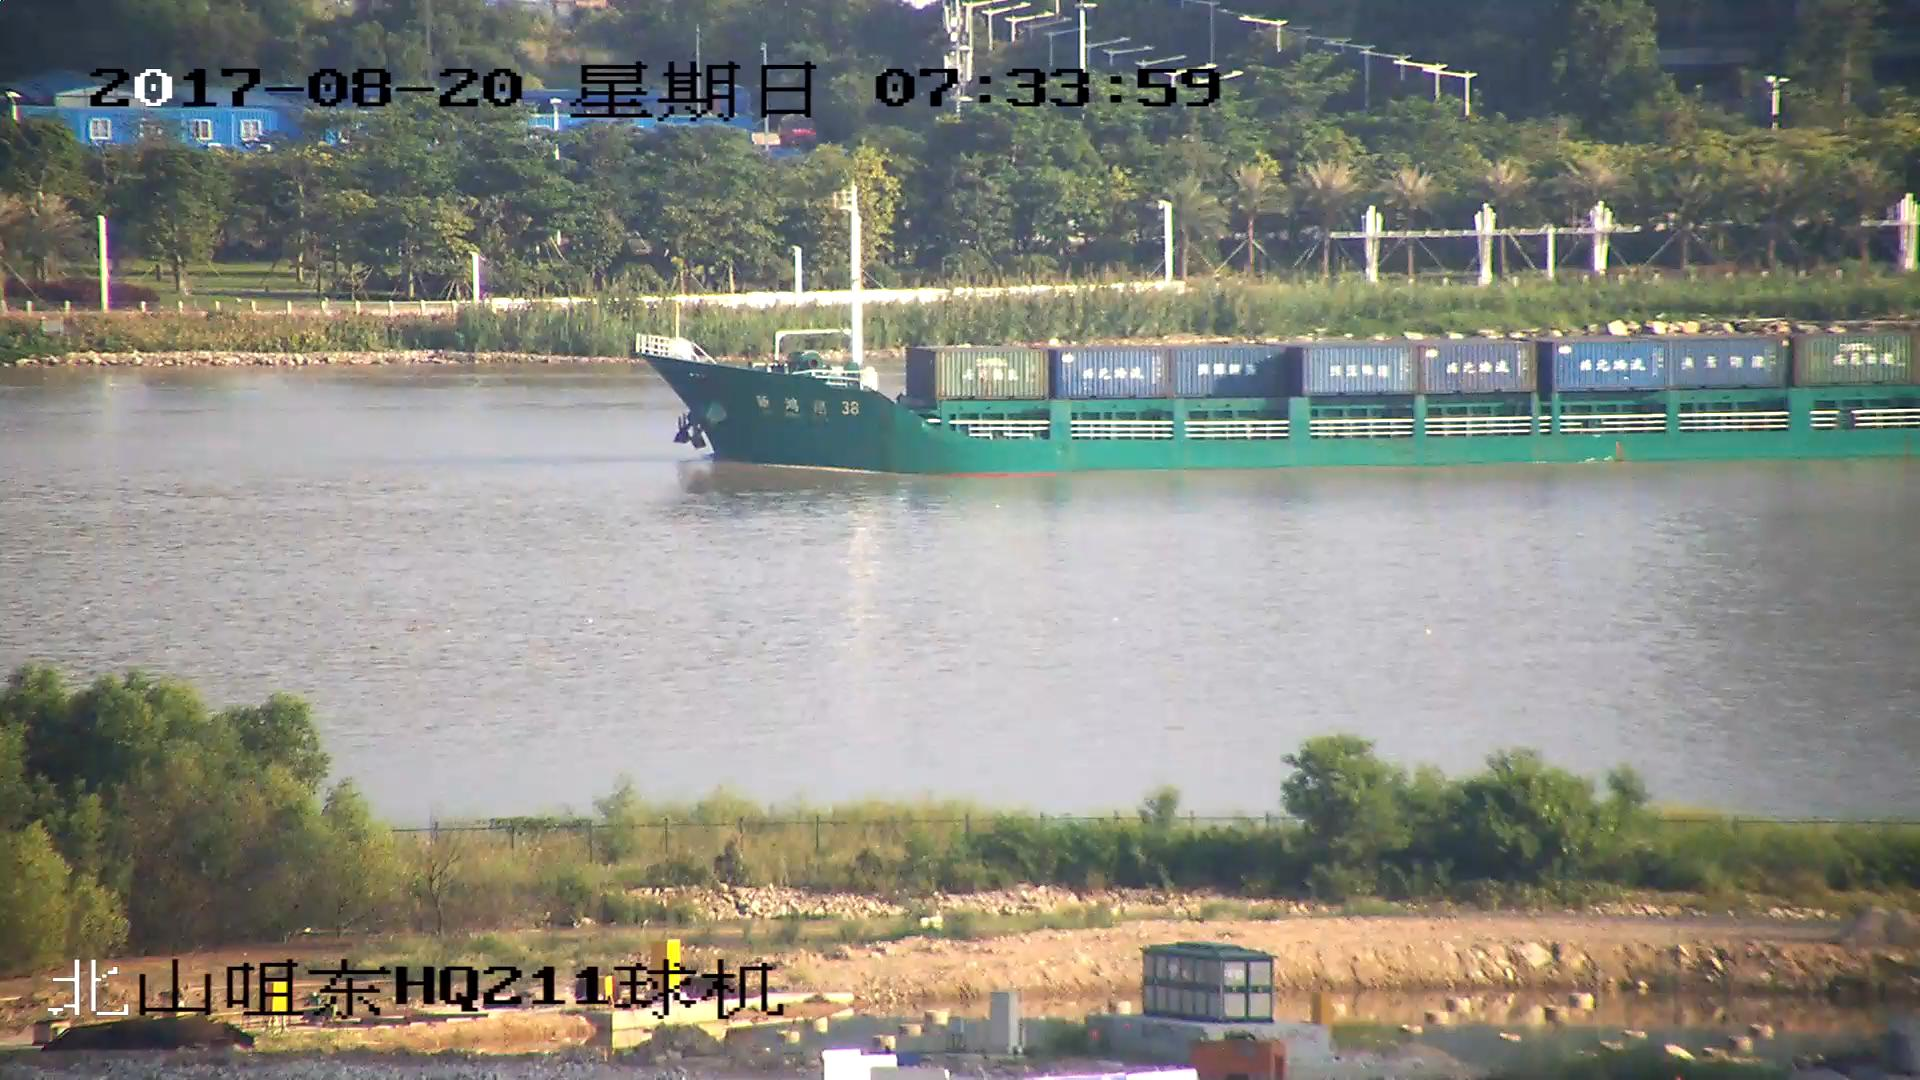general cargo ship: (628, 190, 1920, 479)
